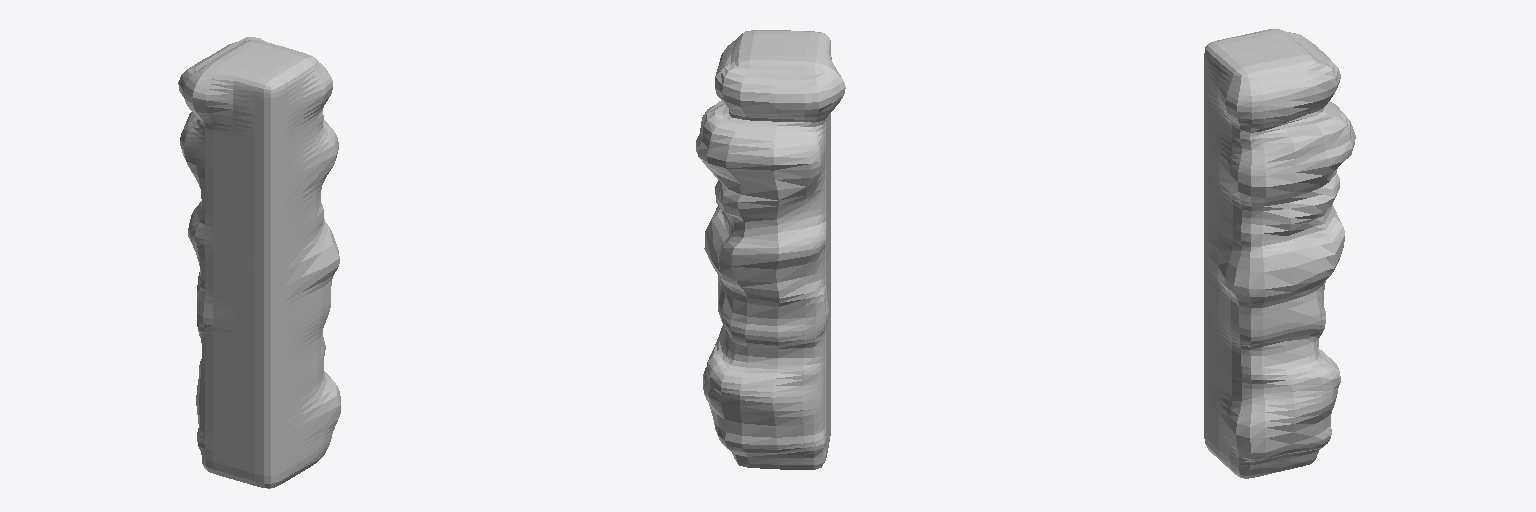
The model's file is PM3D_rock019_001.OBJ.
3 views of the same model, side by side, from view 1: azimuth 30°, elevation 25°; view 2: azimuth 150°, elevation 25°; view 3: azimuth 270°, elevation 25° (orthographic).
Visible parts, largest first — view 1: Group39561; view 2: Group39561; view 3: Group39561.
Part boxes in pixels (bbox=[...]): Group39561: bbox=[178, 37, 340, 488]; Group39561: bbox=[696, 30, 845, 469]; Group39561: bbox=[1204, 29, 1355, 478].
Bounding box in the file's own units: 2750 × 7613 × 2552.